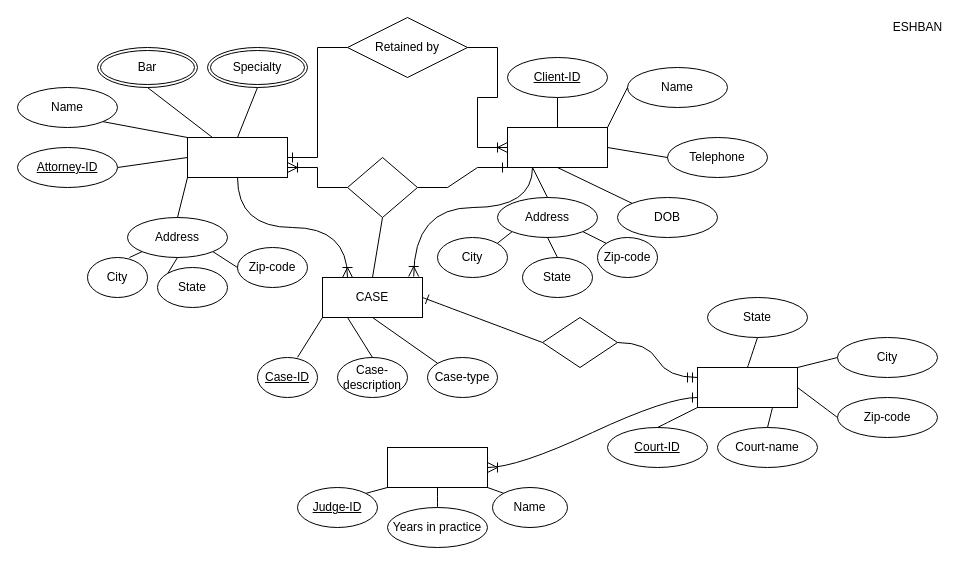
This 965x565 diagram has some shape labels left out. Here are the shapes that lost their labels. From the top down, the centre of each, then its label:
At [237,157]: "ATTORNEY".
At [557,147]: "CLIENT".
At [382,187]: "Have".
At [580,342]: "Assigned".
At [747,387]: "COURT".
At [437,467]: "JUDGE".
